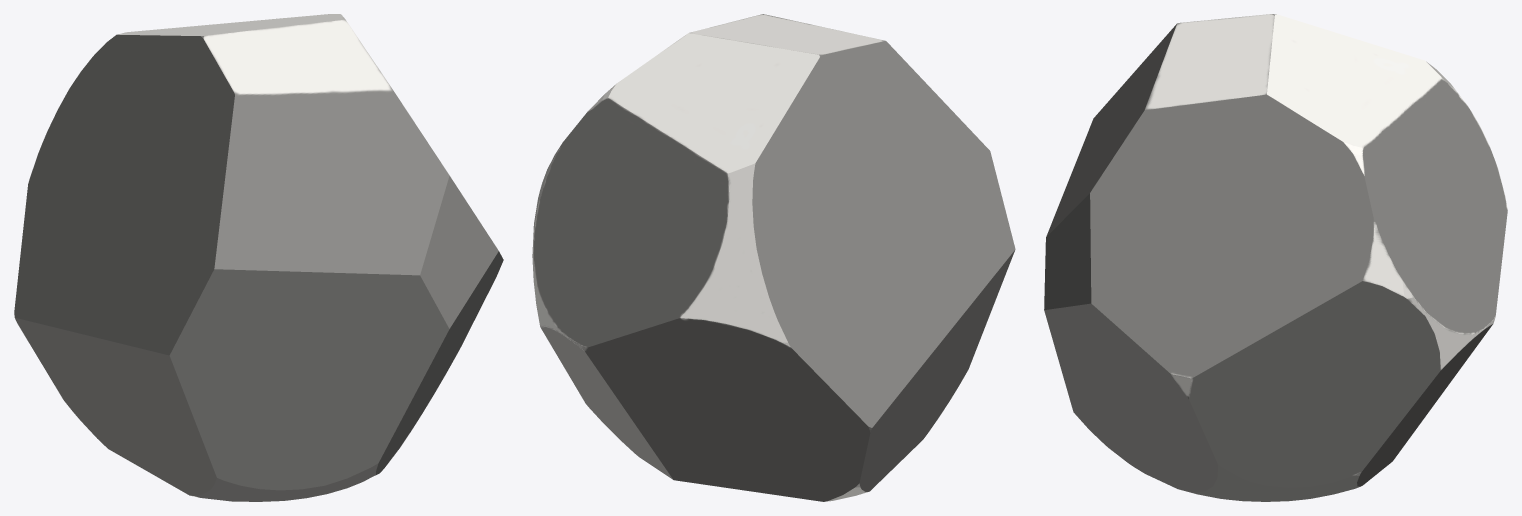
File: cailloux.fbx
The picture shows the model from 3 angles, left to right: view 1: azimuth 30°, elevation 25°; view 2: azimuth 150°, elevation 25°; view 3: azimuth 270°, elevation 25°; orthographic projection. The views are drawn at different scales.
Visible parts, largest first — view 1: Cube; view 2: Cube; view 3: Cube.
Boxes of the visible parts, x1,y1,x2,y2 form: Cube: (14,14,503,501); Cube: (532,14,1015,501); Cube: (1044,14,1507,501).
Bounding box in the file's own units: 229 × 241 × 251.
1 material, 1 textured.
